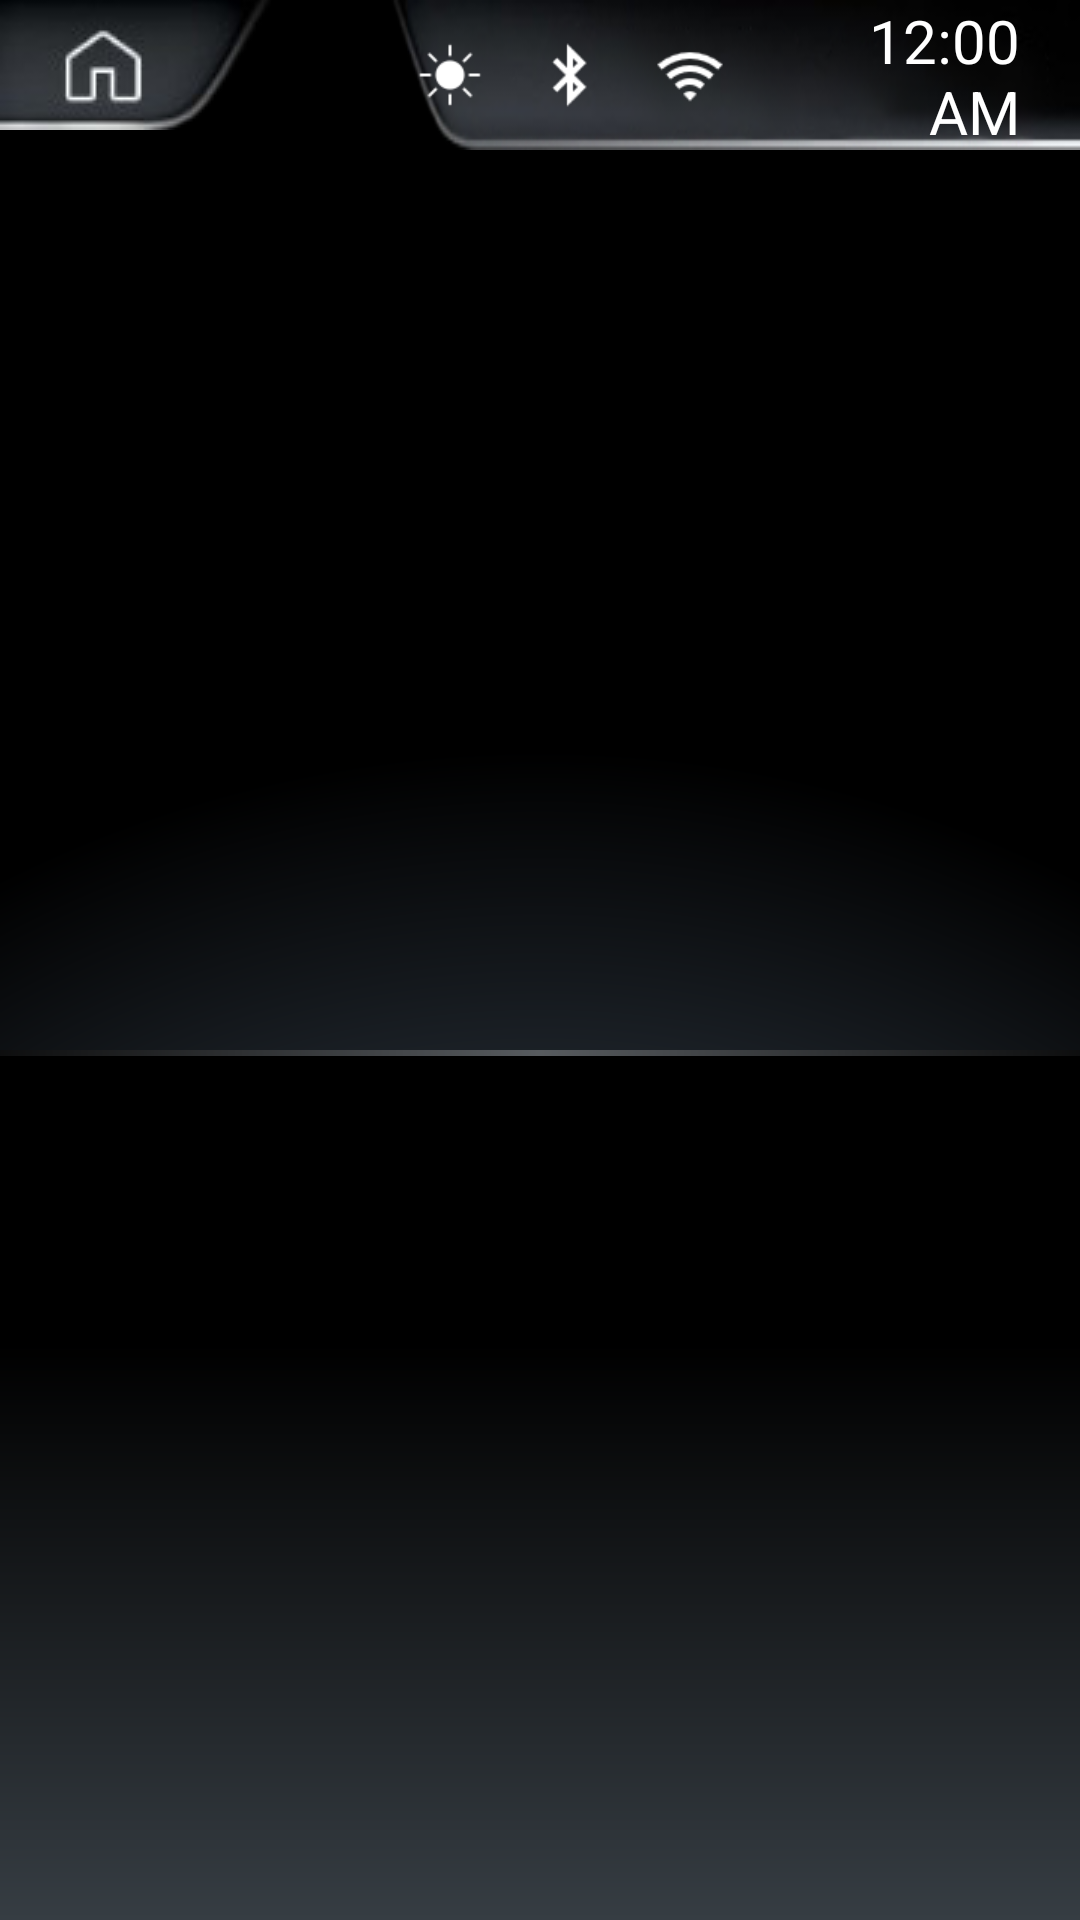

Icons on this 1080px×1920px Android screen, each with the point to tap as point (x, y):
home: point (131, 67)
sun: point (454, 75)
wifi: point (690, 75)
